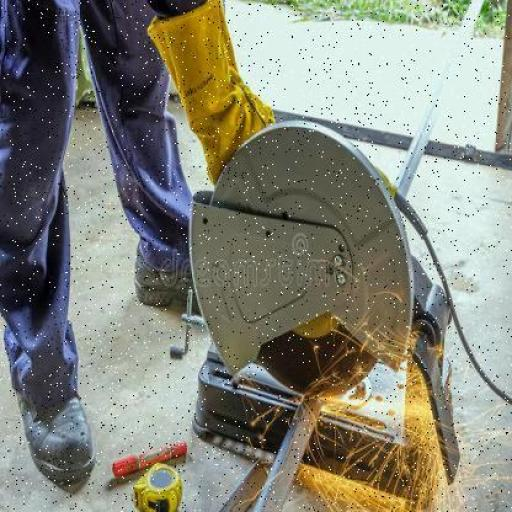safety_shoe: (10, 357, 96, 491), (130, 235, 206, 318)
